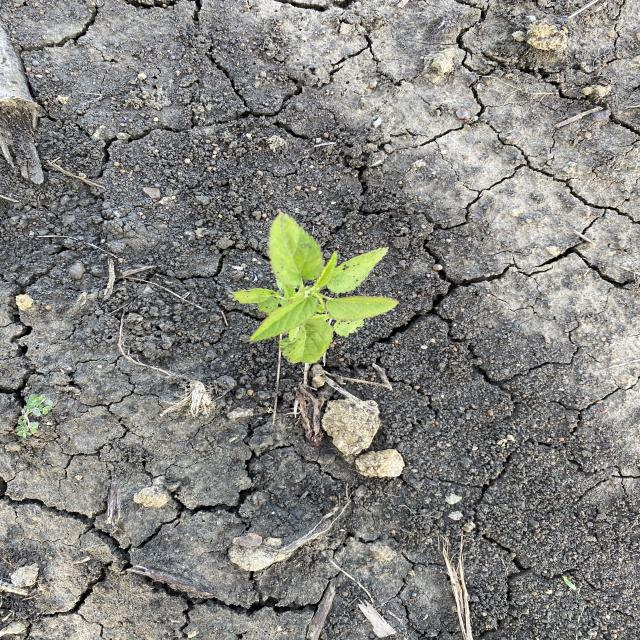PricklySida: (228, 210, 402, 365)
SpottedSpurge: (13, 392, 57, 436)
